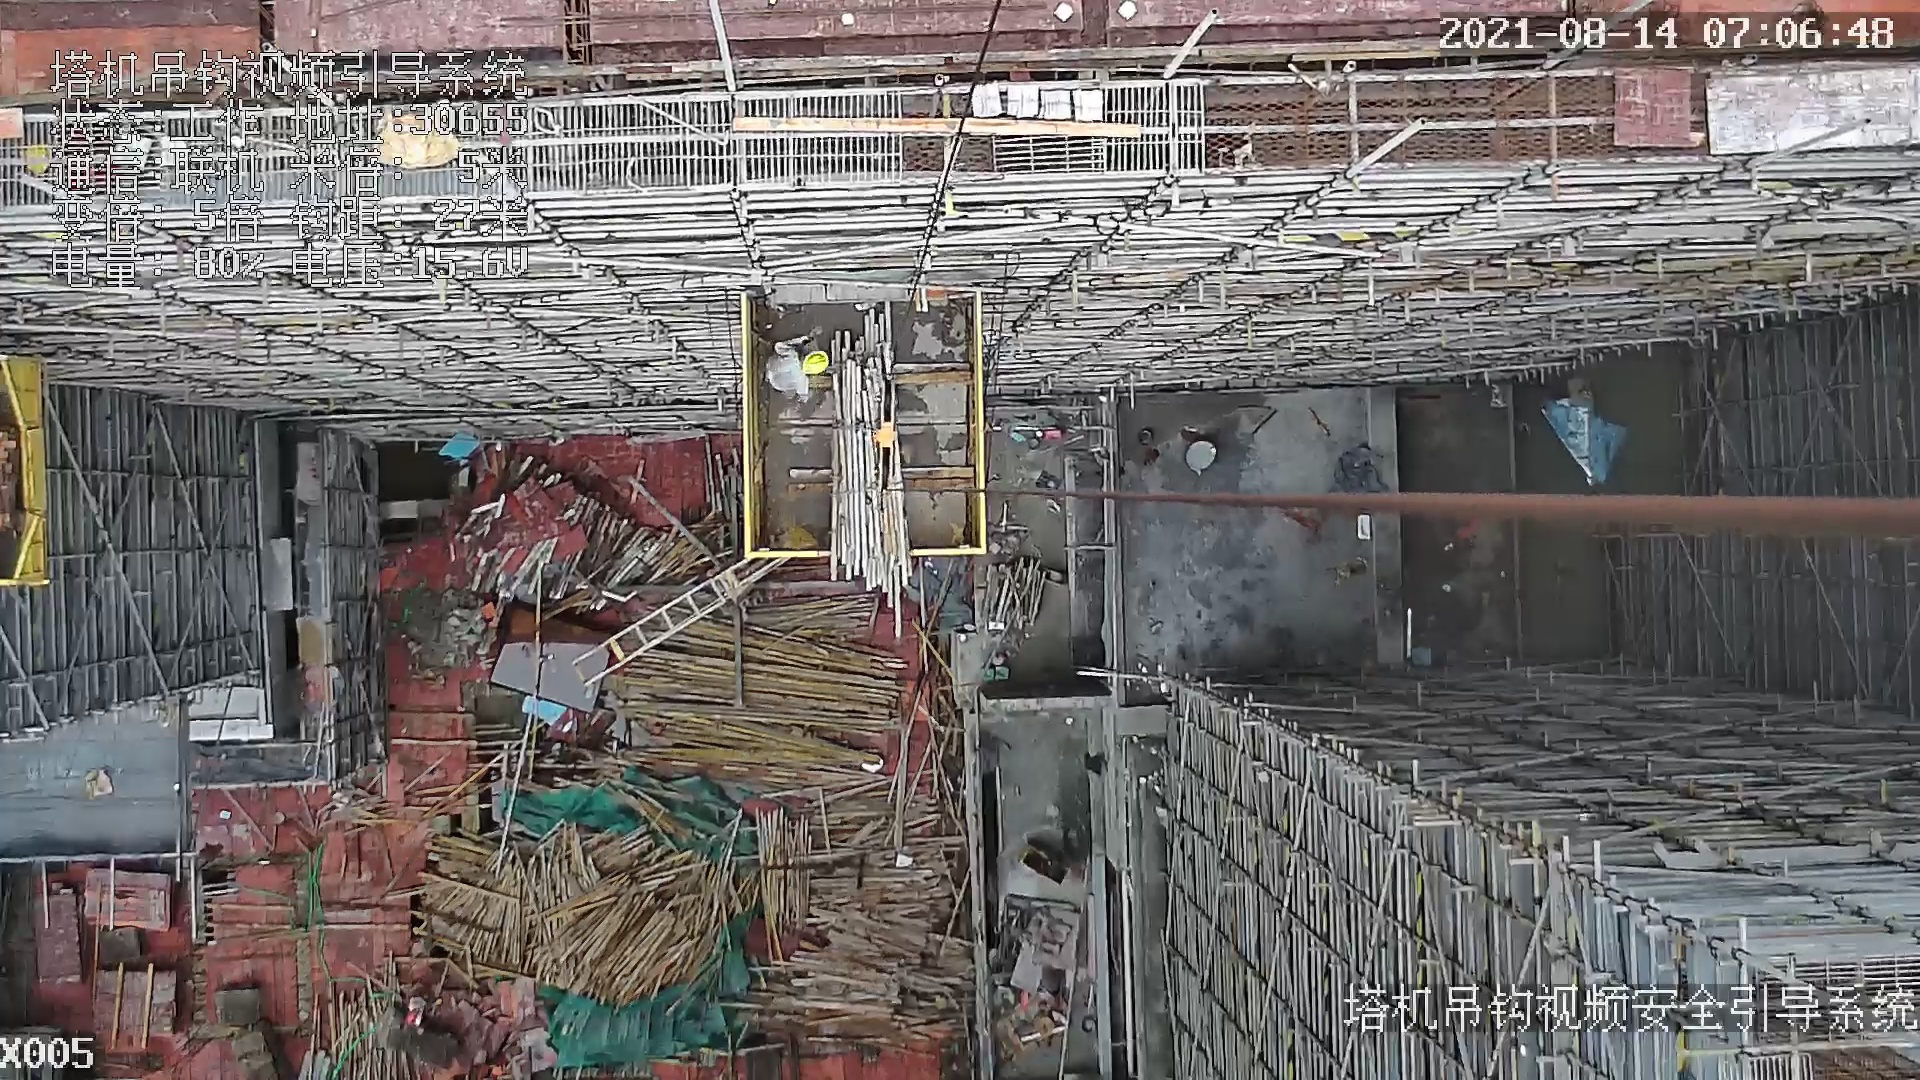helmet: (804, 350, 828, 379)
hook: (872, 377, 906, 505)
person: (769, 335, 828, 400)
